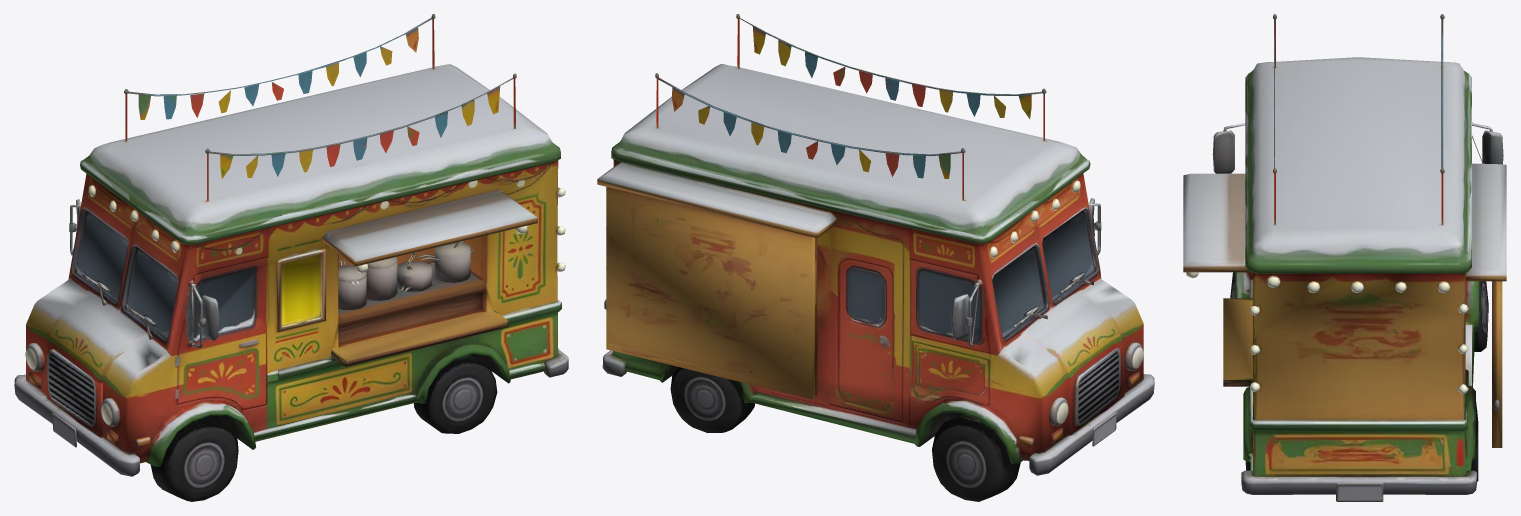
Rendered from gelo_quentao.glb.
The picture shows the model from 3 angles, left to right: view 1: azimuth 30°, elevation 25°; view 2: azimuth 150°, elevation 25°; view 3: azimuth 270°, elevation 25°; orthographic projection. The views are drawn at different scales.
Parts seen in each view (by area): view 1: Festive Quentão Vendor; view 2: Festive Quentão Vendor; view 3: Festive Quentão Vendor.
Part boxes in pixels (box(x1,y1,x2,y2)): Festive Quentão Vendor: box(14, 14, 568, 501); Festive Quentão Vendor: box(597, 14, 1154, 501); Festive Quentão Vendor: box(1183, 14, 1506, 501).
Size of the model in its own units: 0.998 by 0.7051 by 0.5996.
1 material, 1 textured.
